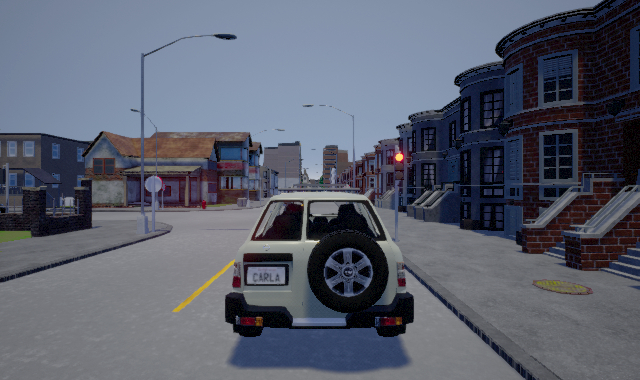traffic_light: (393, 152, 405, 181)
vehicle: (224, 191, 414, 337)
